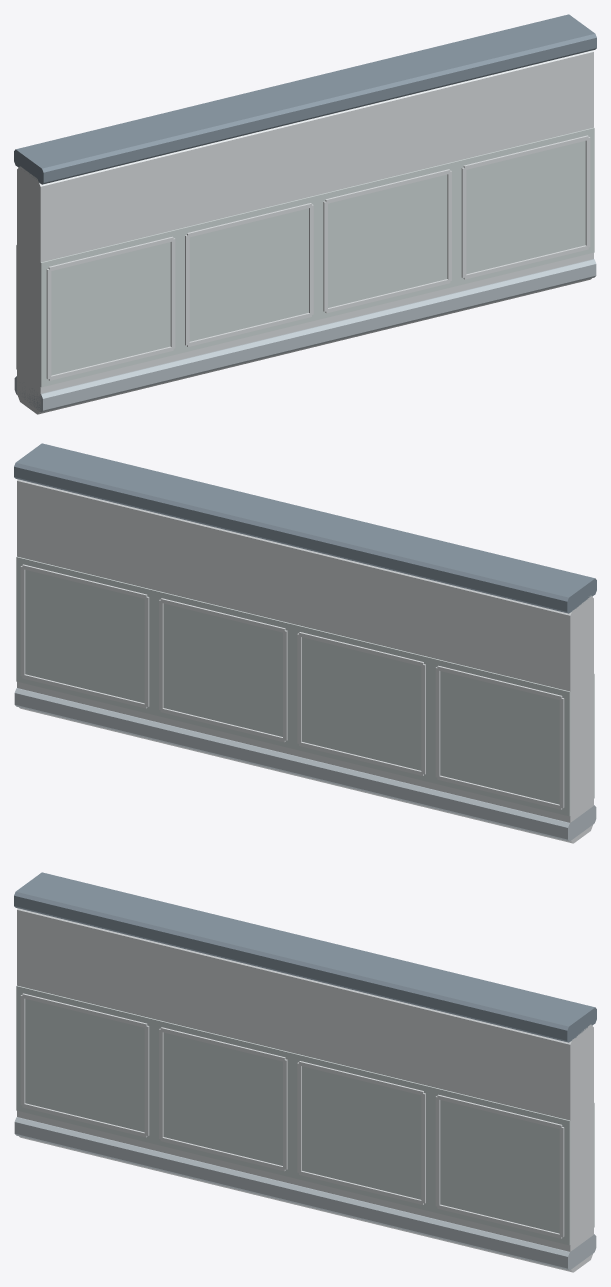
The model's file is wall_school_language.glb.
3 views of the same model, one above another, from view 1: azimuth 30°, elevation 25°; view 2: azimuth 150°, elevation 25°; view 3: azimuth 330°, elevation 25° (orthographic).
Visible parts, largest first — view 1: Part_005, Part_001, Part_002, Part_003, Part_009, Part_025, Part_033, Part_017, Part_023, Part_031, Part_007, Part_015 (+8 smaller); view 2: Part_004, Part_001, Part_002, Part_003, Part_008, Part_024, Part_032, Part_022, Part_016, Part_006, Part_030, Part_014 (+8 smaller); view 3: Part_005, Part_001, Part_002, Part_003, Part_033, Part_017, Part_009, Part_015, Part_025, Part_031, Part_007, Part_023 (+8 smaller).
Boxes of the visible parts, x1,y1,x2,y2 form: Part_005: (40, 127, 594, 387); Part_001: (17, 50, 593, 414); Part_002: (14, 14, 596, 184); Part_003: (14, 259, 596, 412); Part_009: (48, 236, 173, 271); Part_025: (325, 169, 450, 203); Part_033: (463, 135, 588, 169); Part_017: (187, 203, 311, 237); Part_023: (325, 279, 450, 313); Part_031: (463, 245, 588, 279); Part_007: (48, 346, 173, 380); Part_015: (187, 313, 311, 346); Part_004: (16, 556, 570, 816); Part_001: (17, 479, 593, 843); Part_002: (14, 443, 596, 613); Part_003: (14, 688, 596, 841); Part_008: (437, 665, 562, 700); Part_024: (160, 598, 285, 632); Part_032: (22, 564, 147, 598); Part_022: (160, 708, 285, 742); Part_016: (299, 632, 423, 666); Part_006: (437, 775, 562, 809); Part_030: (22, 674, 147, 708); Part_014: (299, 742, 423, 775); Part_005: (16, 985, 570, 1245); Part_001: (17, 908, 593, 1272); Part_002: (14, 872, 596, 1042); Part_003: (14, 1117, 596, 1270); Part_033: (437, 1094, 562, 1129); Part_017: (160, 1027, 285, 1061); Part_009: (22, 993, 147, 1027); Part_015: (160, 1137, 285, 1171); Part_025: (299, 1061, 423, 1095); Part_031: (437, 1204, 562, 1238); Part_007: (22, 1103, 147, 1137); Part_023: (299, 1171, 423, 1204).
Bounding box in the file's own units: 2.7 × 1.16 × 0.25.
